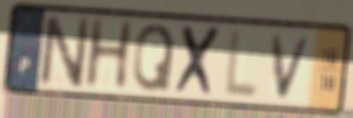H: (80, 15, 137, 92)
L: (221, 25, 261, 103)
N: (37, 13, 93, 91)
Q: (130, 22, 178, 95)
V: (270, 33, 315, 102)
X: (172, 22, 226, 100)
